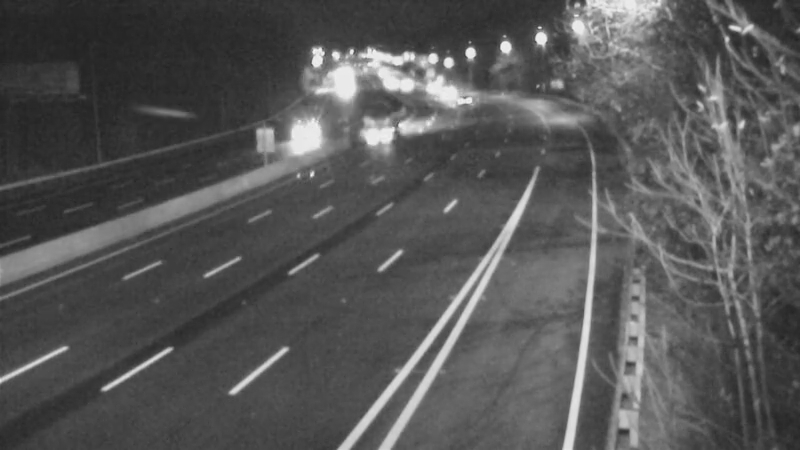vehicle: (380, 60, 430, 110), (401, 63, 451, 113), (422, 66, 472, 116), (437, 78, 487, 128), (362, 96, 412, 146), (275, 112, 325, 162)
